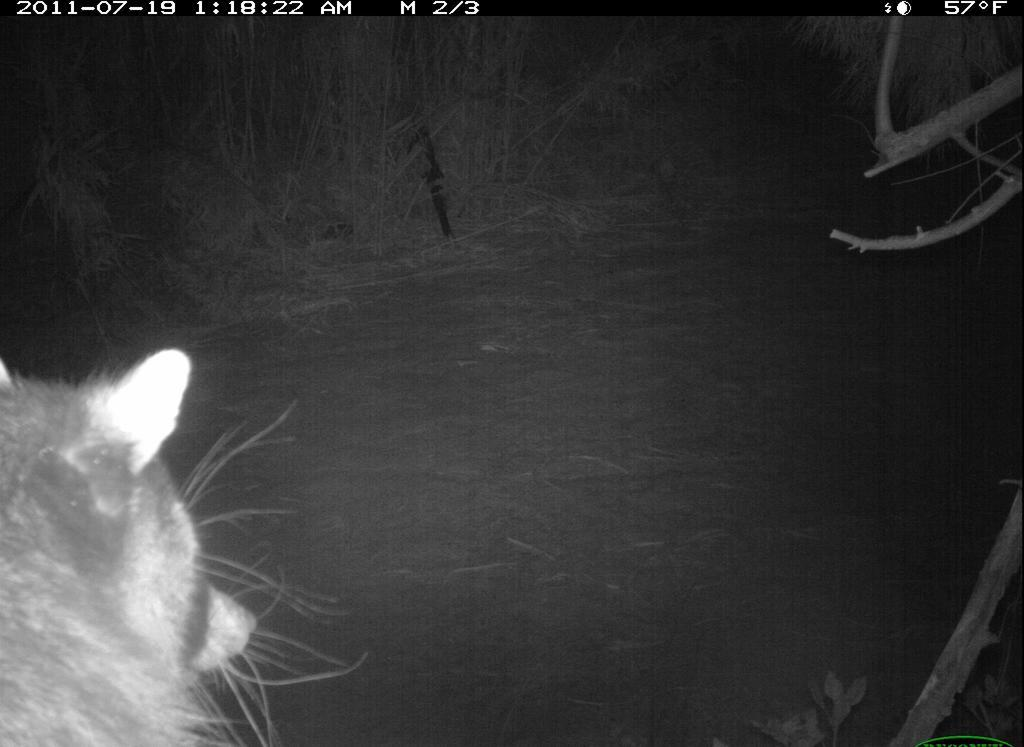raccoon: (3, 341, 346, 747)
